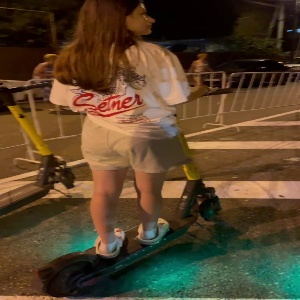human on a scooter: (31, 1, 232, 297)
